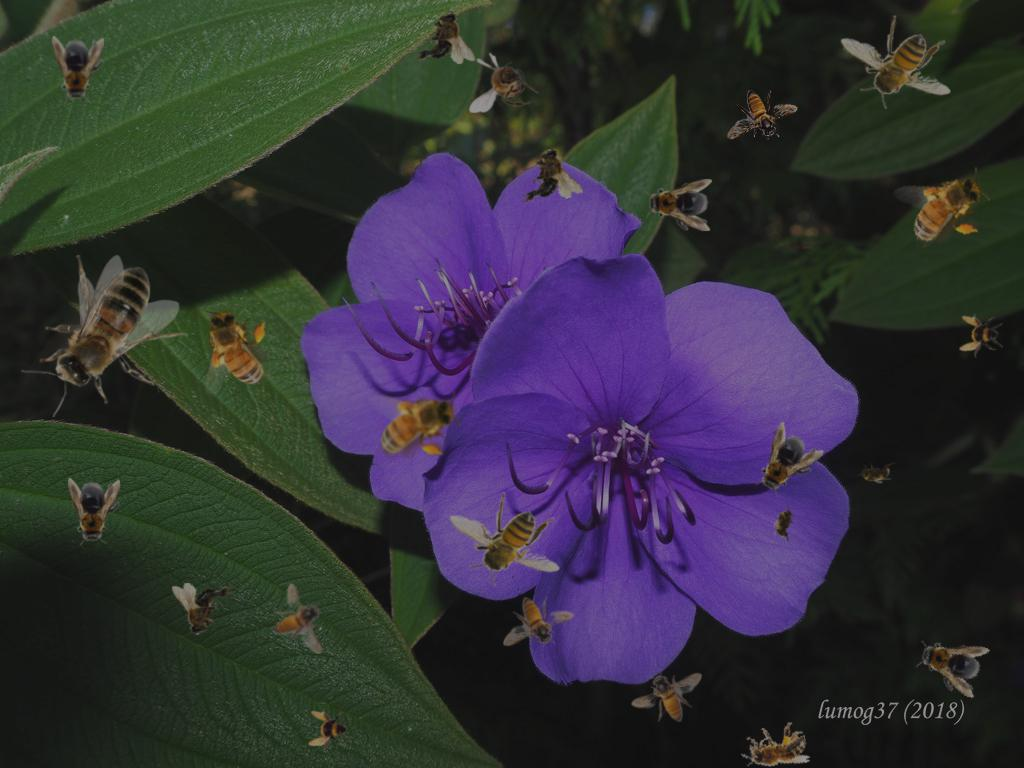Bee: (21, 255, 188, 417), (840, 15, 951, 109), (449, 492, 560, 586), (891, 165, 997, 252), (744, 421, 826, 507), (368, 391, 461, 459), (201, 304, 269, 397), (909, 629, 991, 699), (513, 143, 584, 207), (469, 52, 539, 113), (736, 717, 812, 768), (273, 583, 323, 654), (727, 90, 798, 140), (503, 597, 574, 647), (631, 672, 702, 722), (52, 36, 104, 104), (68, 478, 120, 546), (644, 179, 712, 231), (413, 11, 475, 64), (172, 583, 234, 636), (958, 313, 1004, 359), (308, 709, 352, 753), (768, 500, 802, 546), (855, 462, 895, 484)
